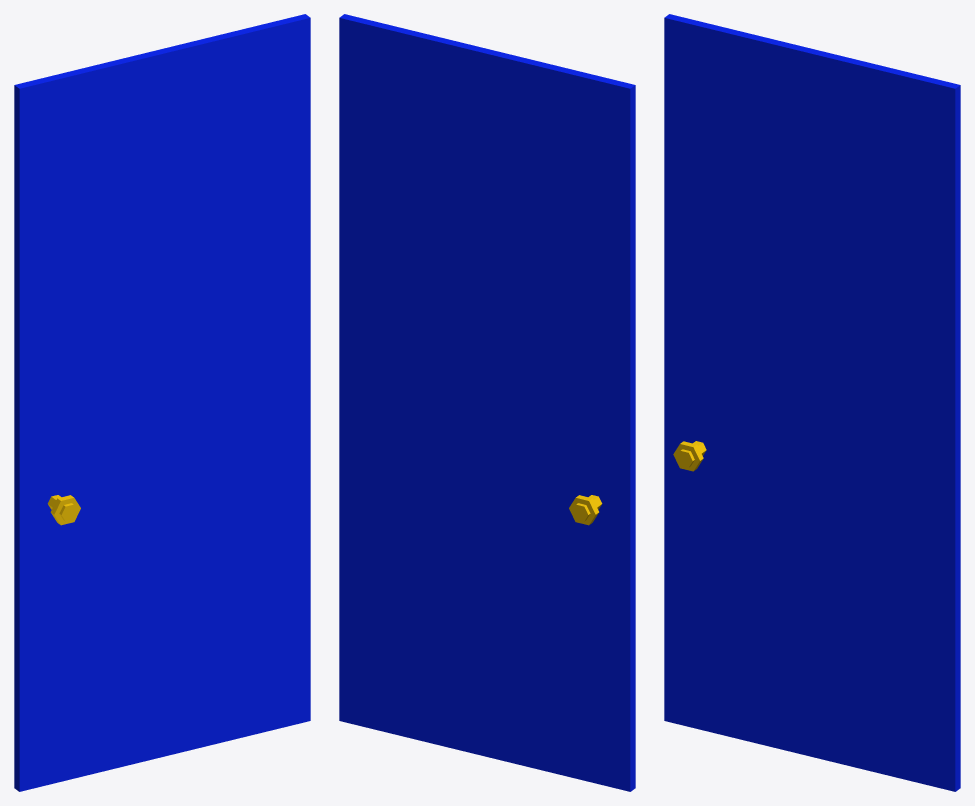
Rendered from SM_ToiletDoor_01.fbx.
3 renders of one model, left to right at view 1: azimuth 30°, elevation 25°; view 2: azimuth 150°, elevation 25°; view 3: azimuth 330°, elevation 25°, orthographic.
Visible parts, largest first — view 1: Box024; view 2: Box024; view 3: Box024.
Boxes of the visible parts, x1,y1,x2,y2 form: Box024: [14, 14, 310, 791]; Box024: [339, 14, 635, 791]; Box024: [664, 14, 960, 791].
Bounding box in the file's own units: 65 × 150 × 13.62.
